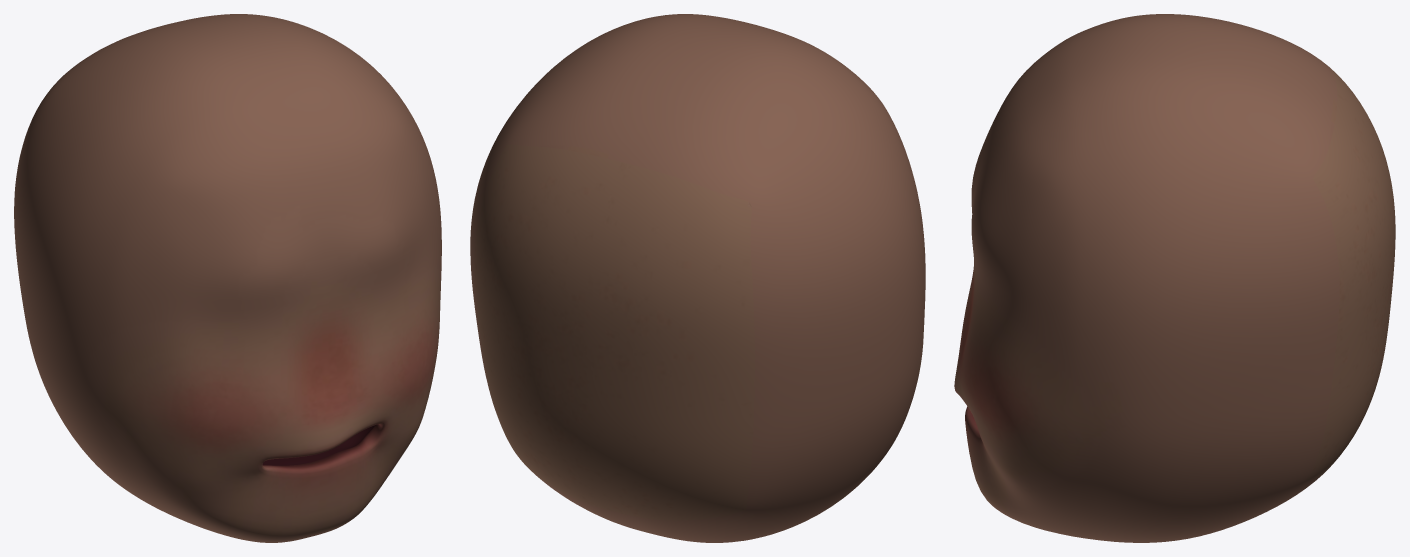
The model's file is head9.glb.
3 views of the same model, side by side, from view 1: azimuth 30°, elevation 25°; view 2: azimuth 150°, elevation 25°; view 3: azimuth 270°, elevation 25° (orthographic). The views are drawn at different scales.
Parts seen in each view (by area): view 1: head.009; view 2: head.009; view 3: head.009.
Boxes of the visible parts, x1,y1,x2,y2 form: head.009: [14, 14, 441, 542]; head.009: [470, 14, 925, 542]; head.009: [954, 14, 1395, 542].
Bounding box in the file's own units: 1.35 × 1.62 × 1.34.
Materials: 1 (1 with a texture image).
